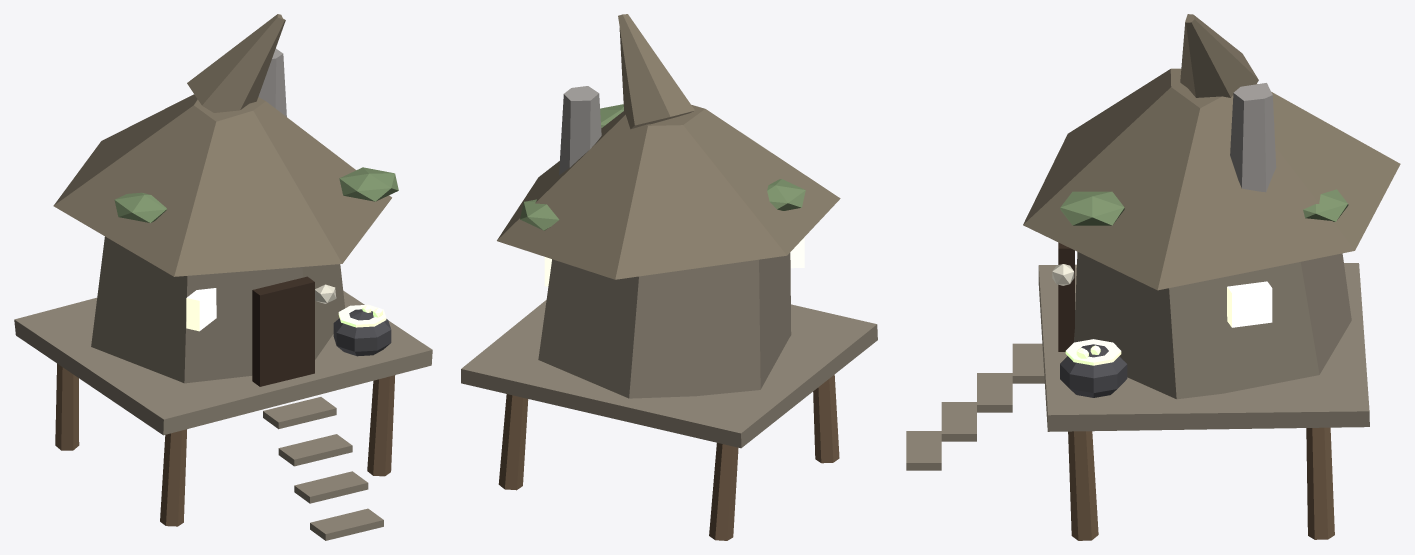
Rendered from witch_hut.glb.
3 views of the same model, side by side, from view 1: azimuth 30°, elevation 25°; view 2: azimuth 150°, elevation 25°; view 3: azimuth 270°, elevation 25° (orthographic). The views are drawn at different scales.
Visible parts, largest first — view 1: witch_hut; view 2: witch_hut; view 3: witch_hut.
Boxes of the visible parts, left/top/right/bottom form: witch_hut: left=14, top=14, right=432, bottom=540; witch_hut: left=461, top=14, right=877, bottom=540; witch_hut: left=906, top=14, right=1400, bottom=540.
Size of the model in its own units: 4.51 by 6.44 by 5.86.
